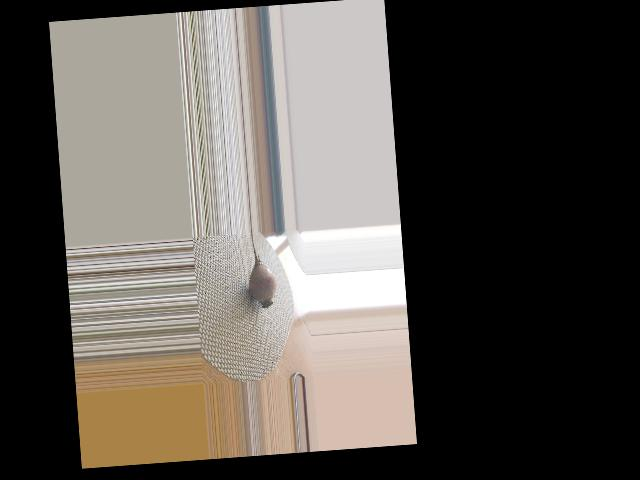beet: (245, 231, 278, 309)
